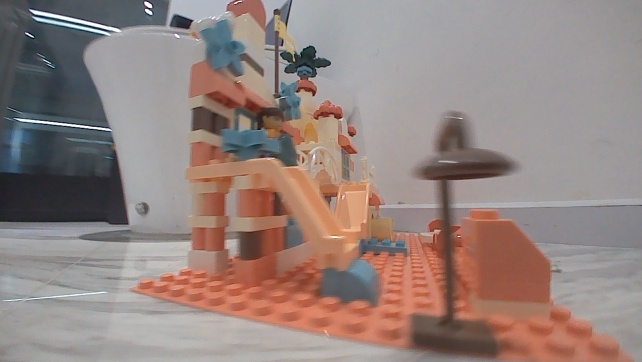plastic_toy: (130, 0, 631, 361)
toilet: (83, 22, 197, 237)
